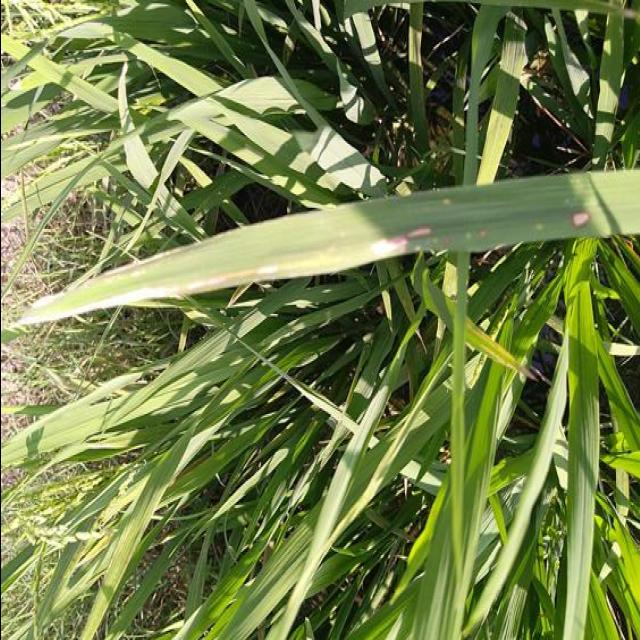Leaf Streak: (19, 265, 278, 323), (370, 227, 433, 250), (568, 210, 590, 231), (437, 200, 454, 209)
